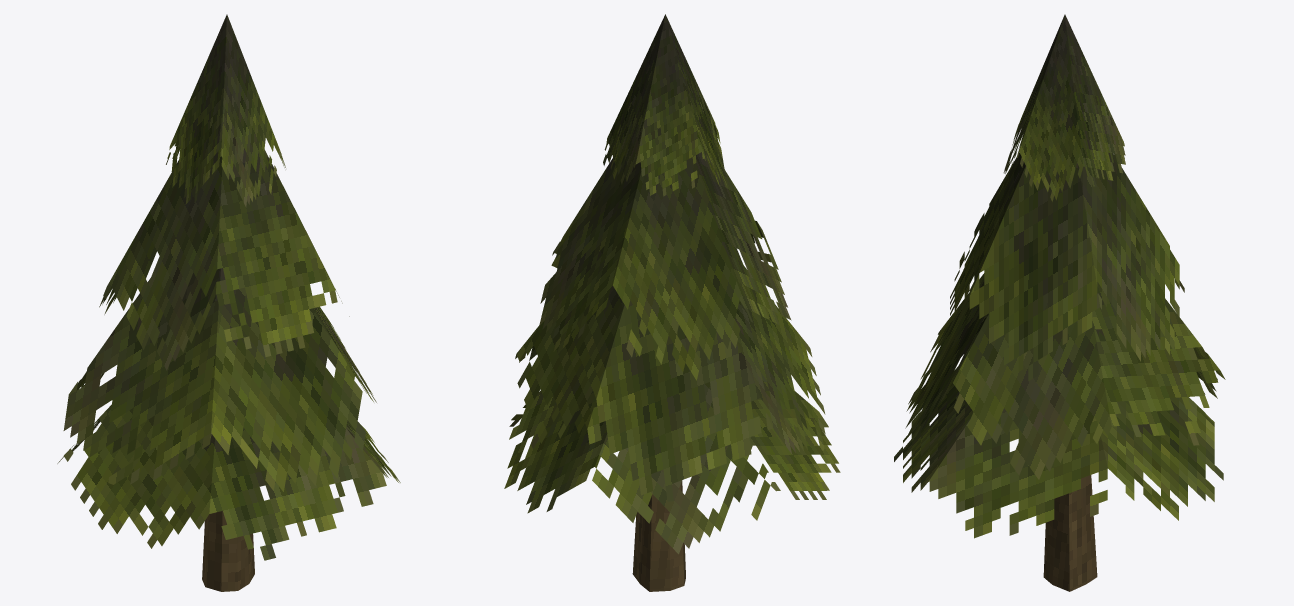
File: small_tree.obj
The picture shows the model from 3 angles, left to right: view 1: azimuth 30°, elevation 25°; view 2: azimuth 150°, elevation 25°; view 3: azimuth 270°, elevation 25°; orthographic projection.
Visible parts, largest first — view 1: small_tree; view 2: small_tree; view 3: small_tree.
Boxes of the visible parts, box(x1,y1,x2,y2) form: small_tree: box(57, 14, 400, 591); small_tree: box(504, 14, 840, 591); small_tree: box(894, 14, 1225, 591).
Bounding box in the file's own units: 3.43 × 5.22 × 3.26.
1 material, 1 textured.
